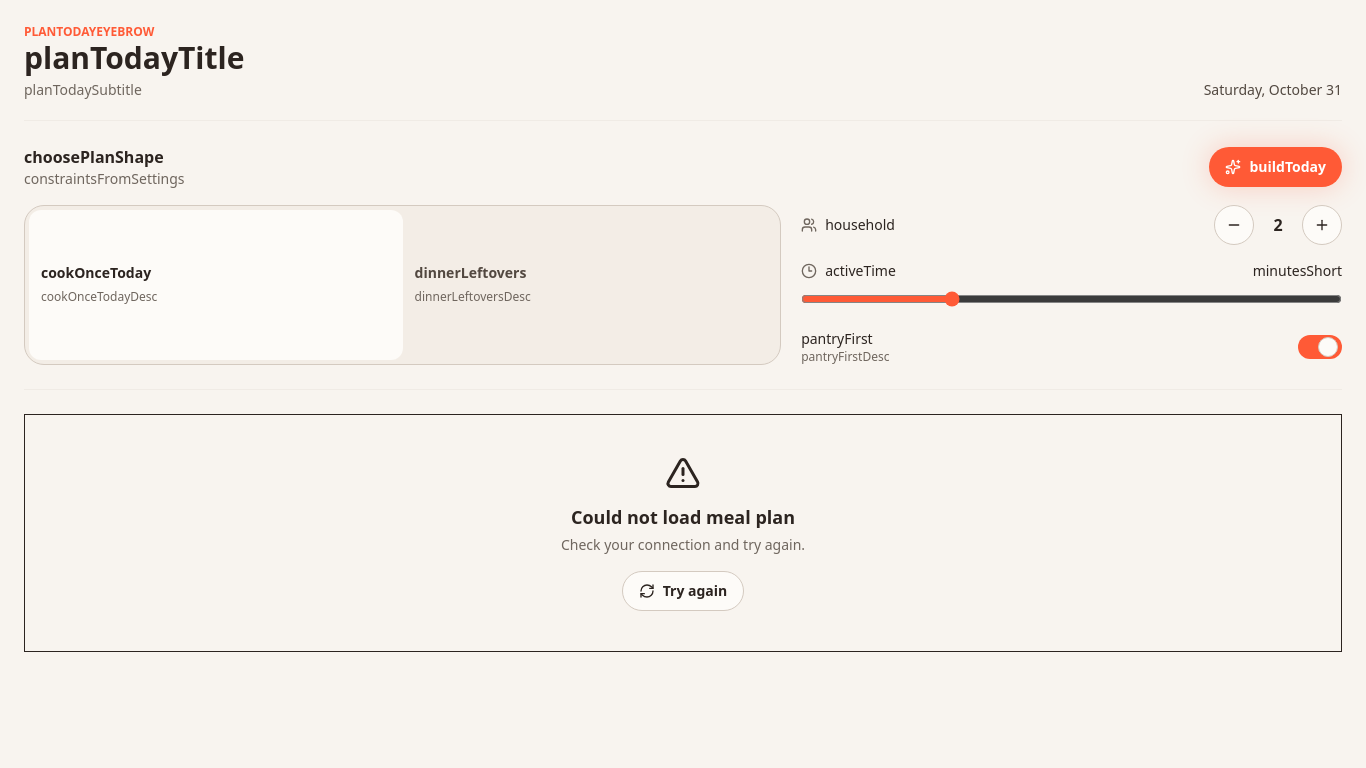
meal planner load truth › clears the failure after a successful retry with no current plan
Click the button "Try again". click: (683, 591)
box: [622, 571, 744, 611]
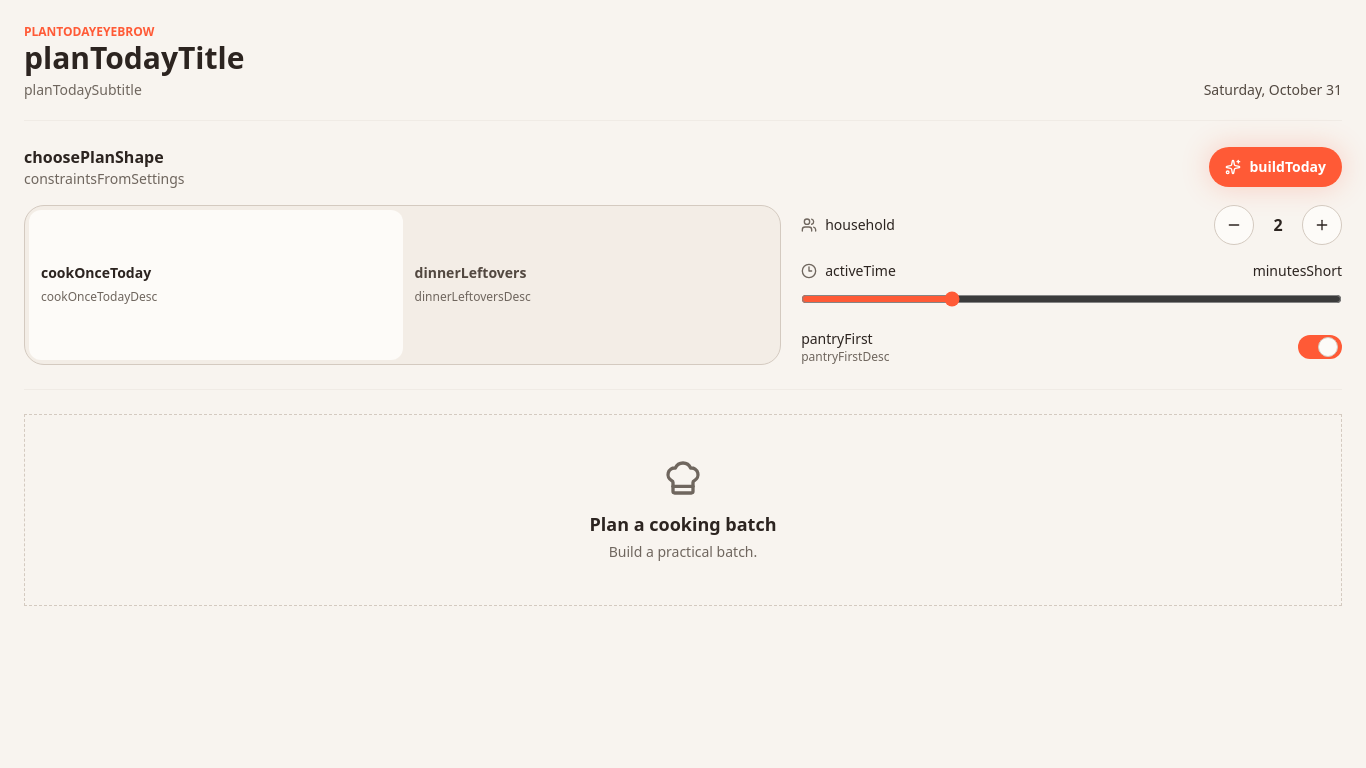
Expected: the message "Could not load meal plan Check your connection and try again. Try again" is gone
Expected: the heading "Plan a cooking batch" is shown, [590, 510, 776, 538]
